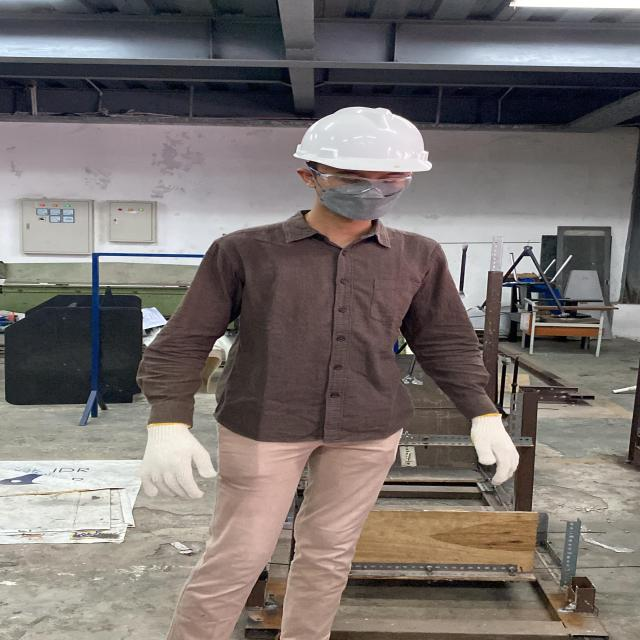face_mask: (309, 169, 417, 221)
glasses: (301, 163, 419, 196)
hand_glove: (129, 422, 228, 504), (461, 420, 535, 486)
head_helmet: (288, 104, 436, 172)
person: (124, 101, 542, 640)
